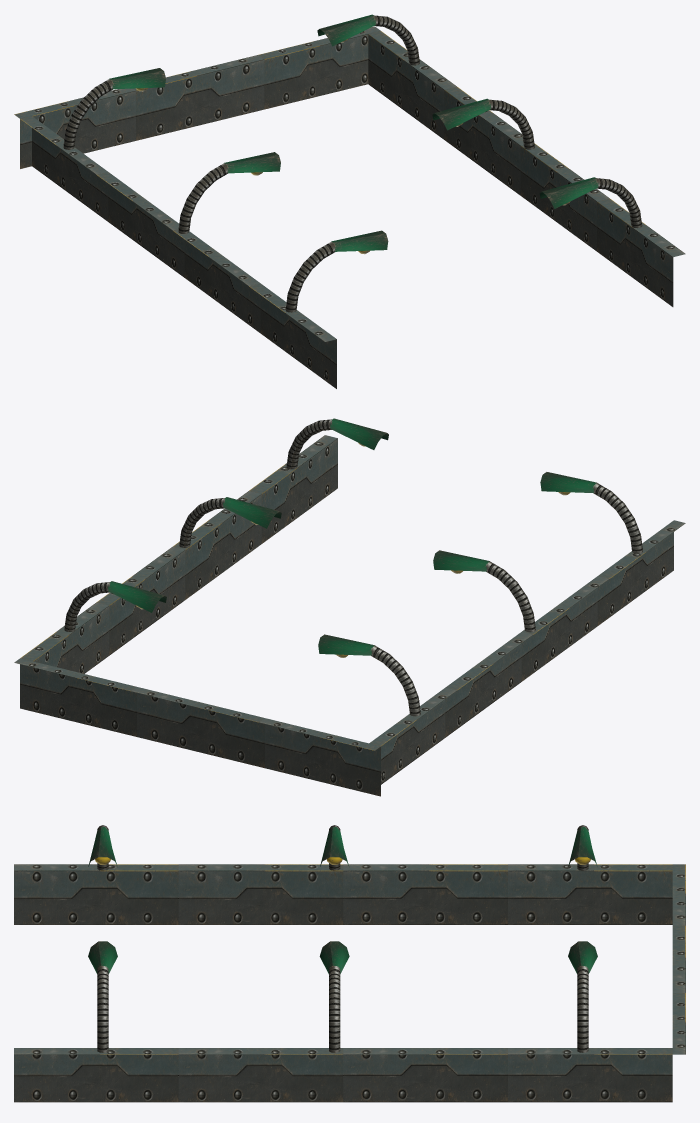
Rendered from tableborder.glb.
The picture shows the model from 3 angles, top to bottom: view 1: azimuth 30°, elevation 25°; view 2: azimuth 150°, elevation 25°; view 3: azimuth 270°, elevation 25°; orthographic projection. The views are drawn at different scales.
Parts seen in each view (by area): view 1: border; view 2: border; view 3: border.
Boxes of the visible parts, <box> form: border: <box>14,14,685,388</box>; border: <box>14,418,685,796</box>; border: <box>14,825,685,1102</box>.
Size of the model in its own units: 150 by 43.16 by 224.
Materials: 1 (1 with a texture image).
